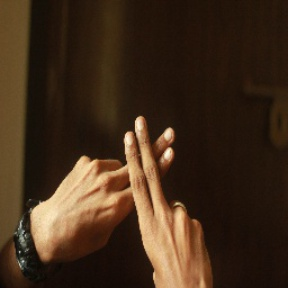F: (94, 106, 197, 231)
